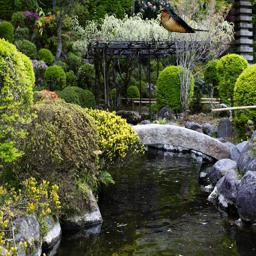Swallow: (157, 7, 210, 33)
